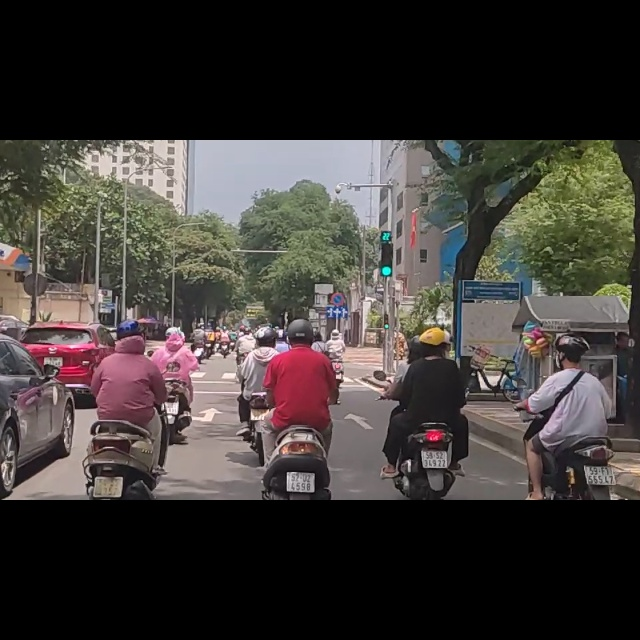bien_cam: (329, 271, 345, 299)
